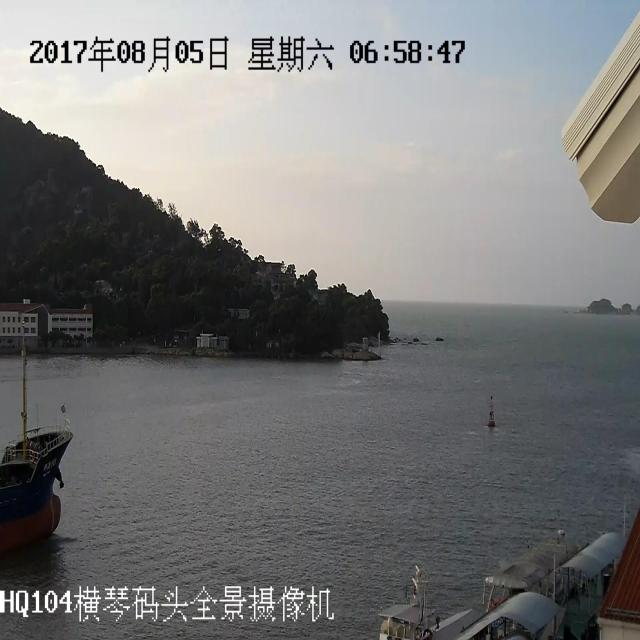buoy: (473, 371, 503, 434)
houseboat: (5, 362, 79, 553)
